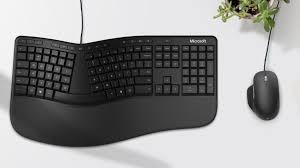keyboard: (0, 28, 234, 153)
mouse: (243, 63, 284, 125)
